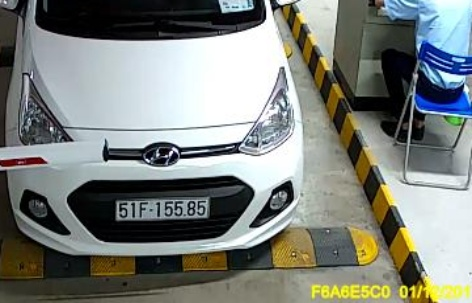plate: (112, 194, 210, 222)
